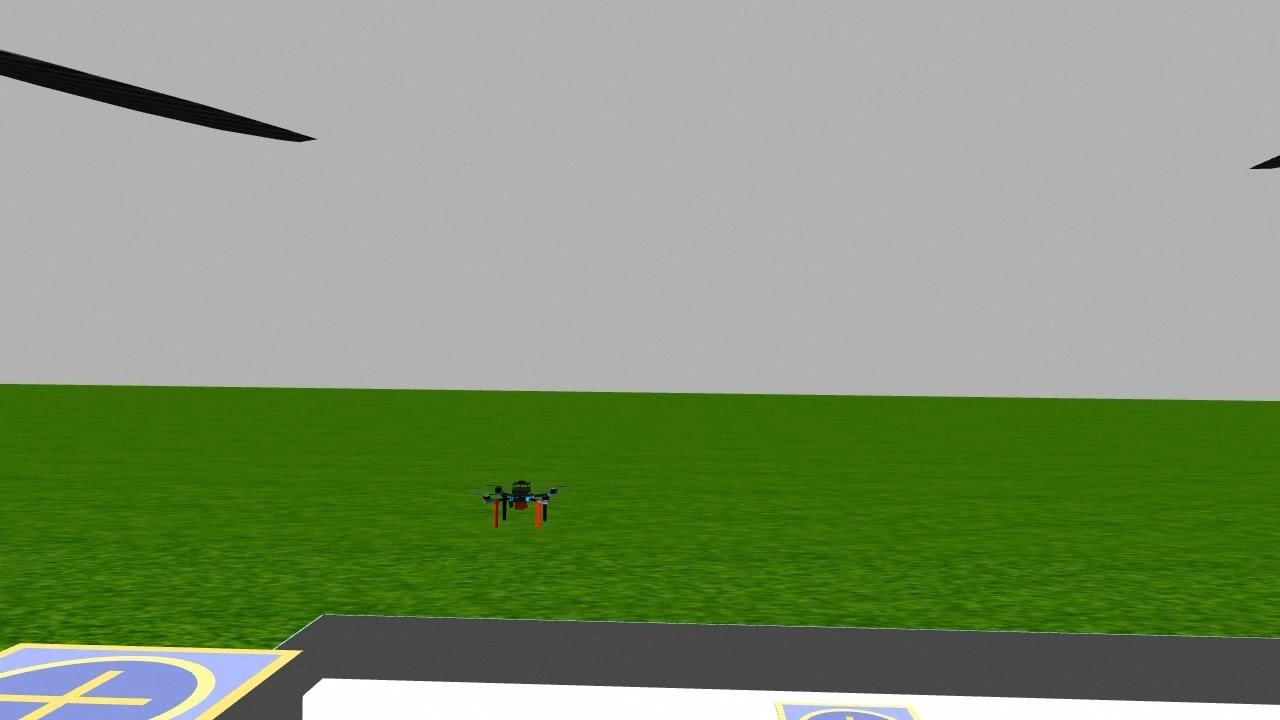UAV: (470, 463, 566, 544)
